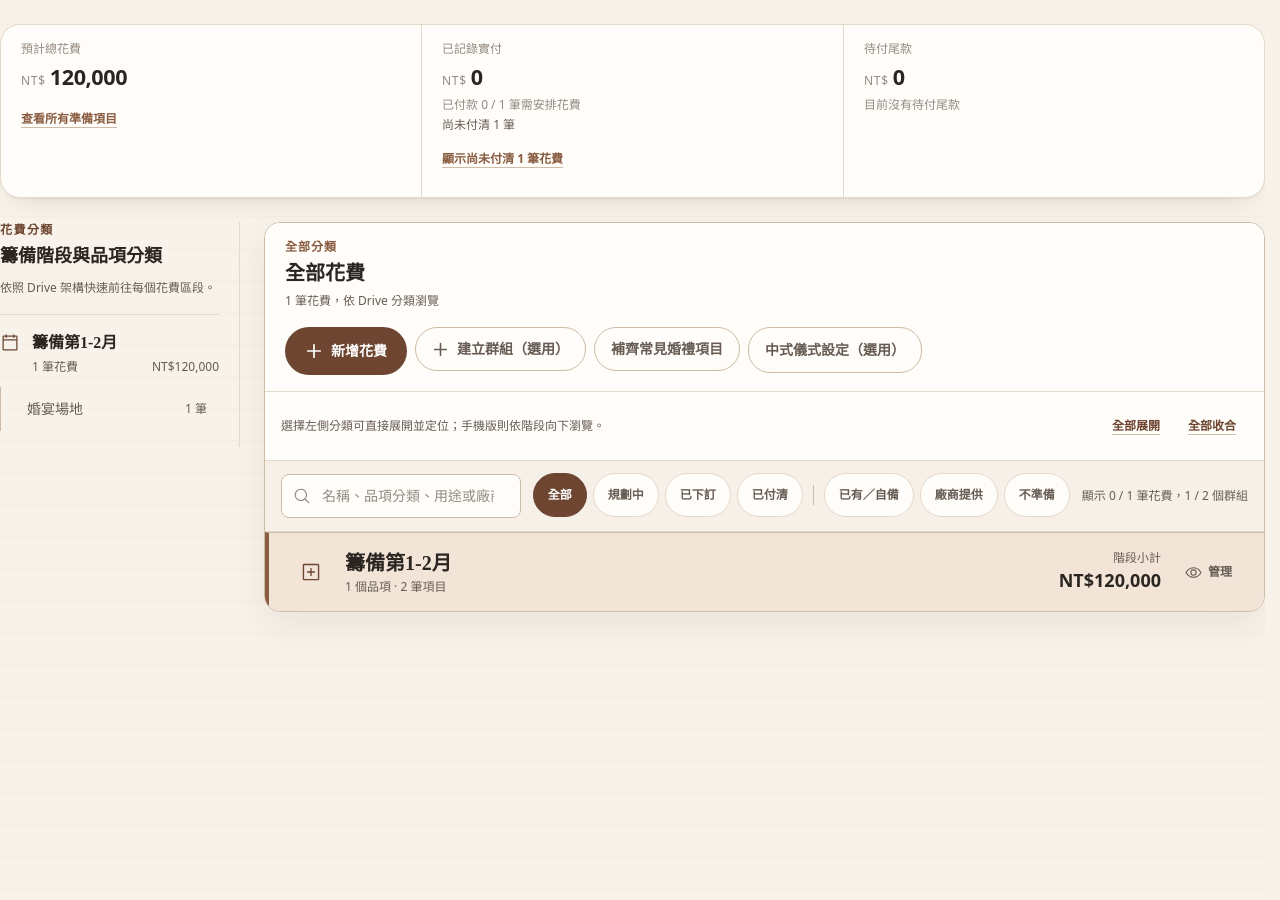
Test: budget taxonomy UI › keeps stages collapsed and fixed while item classifications can add actual entries
Check: the element showing "籌備第1-2月 1 個品項 · 2 筆項目 階段小計 NT$120,000 管理" does not show "母分類", box [265,532,1264,611]
Check: the heading "籌備第1-2月" is shown, box [345,552,452,574]
Click the button with aria-label "管理籌備階段：籌備第1-2月" at (1208,572), box [1173,550,1244,594]
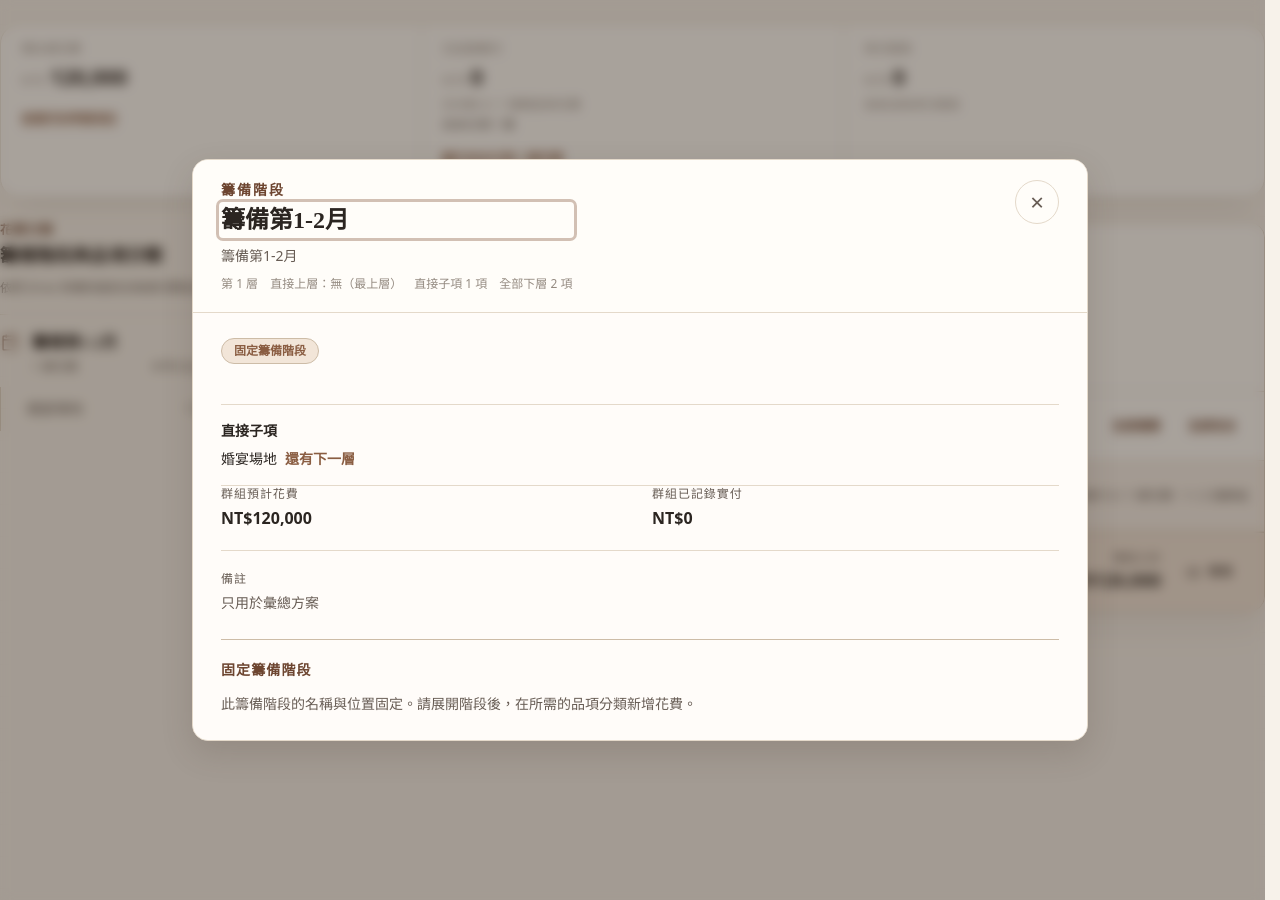
Check: the dialog "籌備第1-2月" shows "固定籌備階段", box [234,342,306,359]
Check: the navigation bar named "籌備階段層級路徑" is shown, box [221,246,298,265]
Check: the element named "籌備第1-2月 籌備階段完整資料" is shown, box [193,313,1087,740]
Click the button named "關閉管理：籌備第1-2月" at (1037,202), box [1015,180,1059,224]
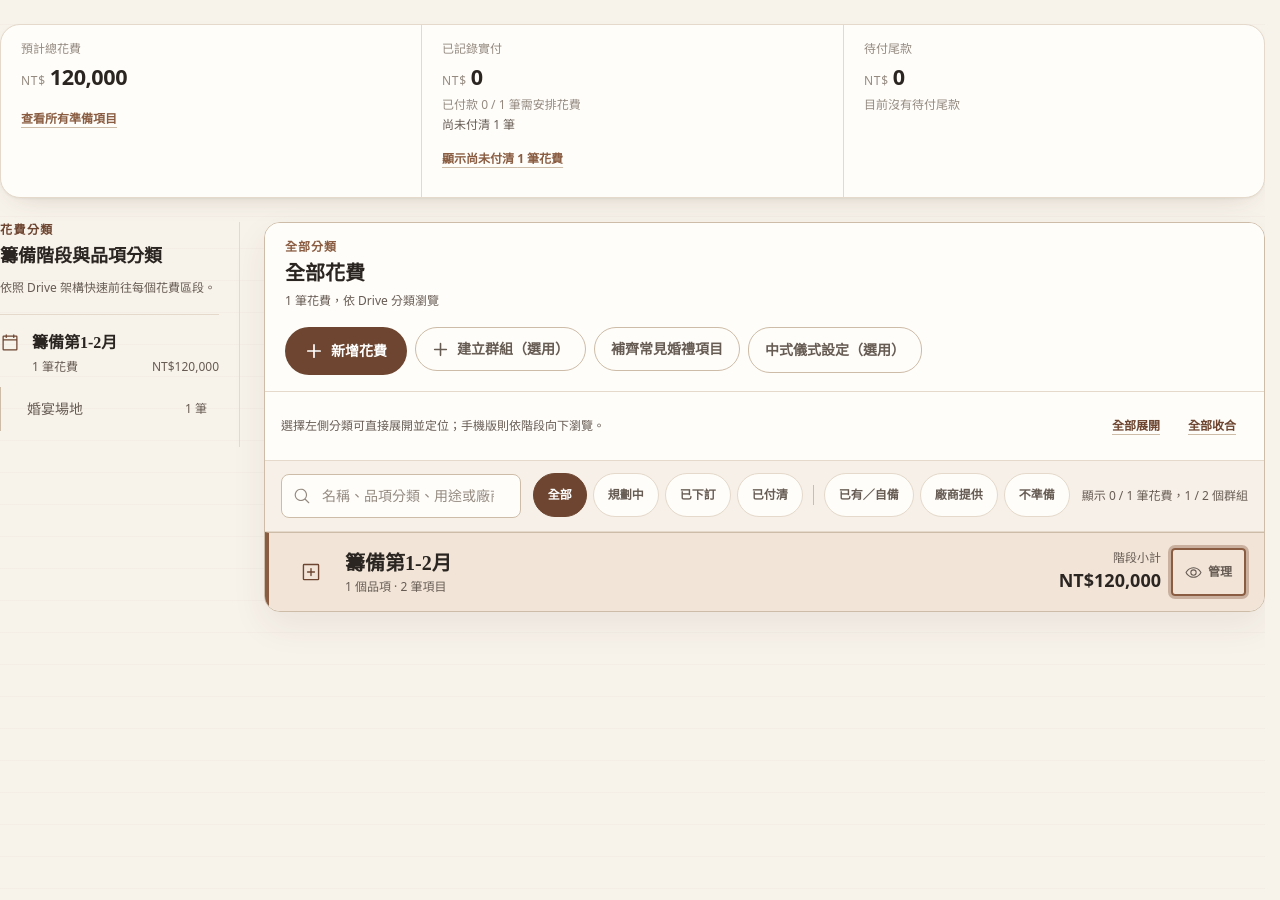
Click the button named "展開籌備階段：籌備第1-2月" at (311,572), box [289,550,333,594]
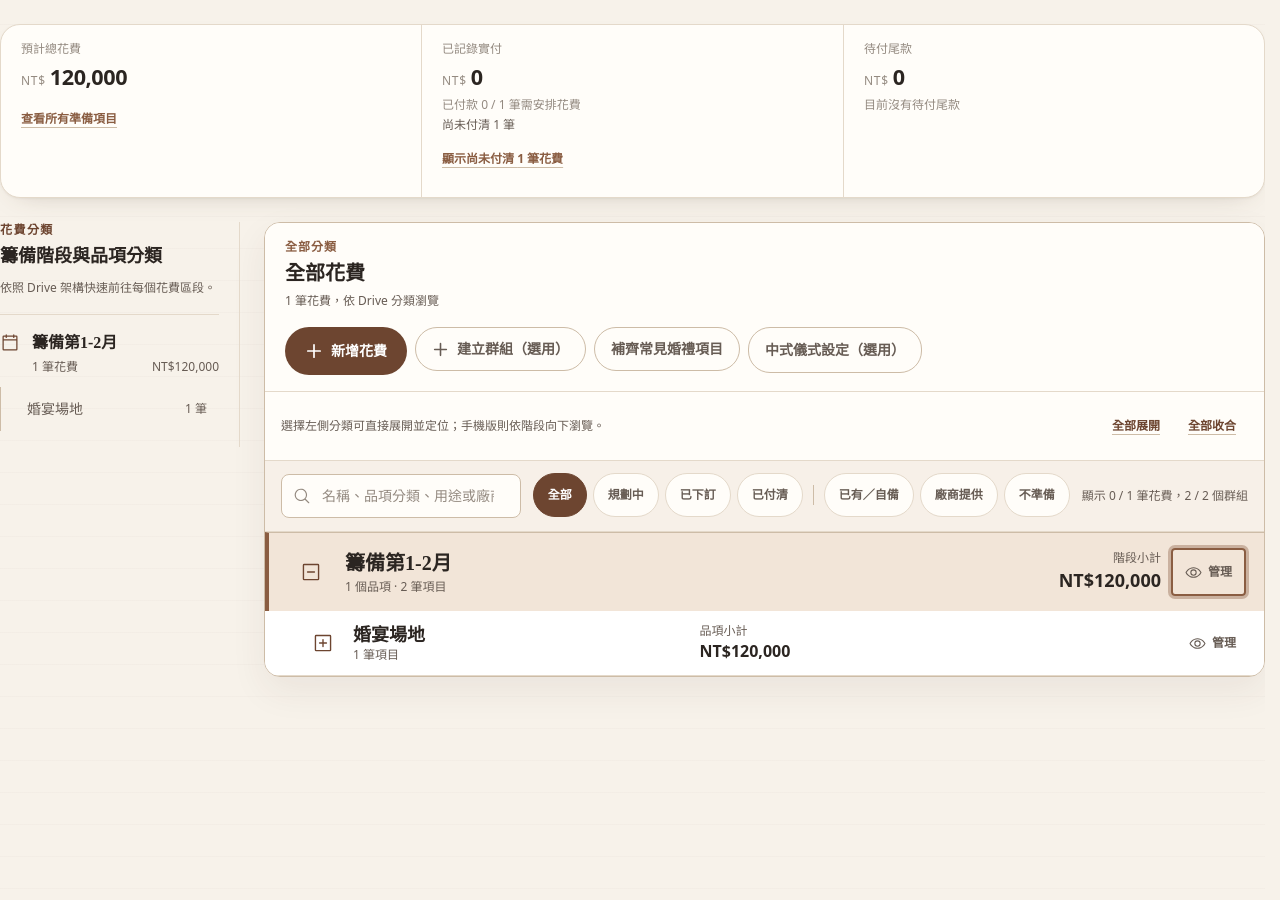
Check: the heading "婚宴場地" is shown, box [353,623,425,647]
Click the button named "展開品項分類：婚宴場地" at (323,643), box [301,621,345,665]
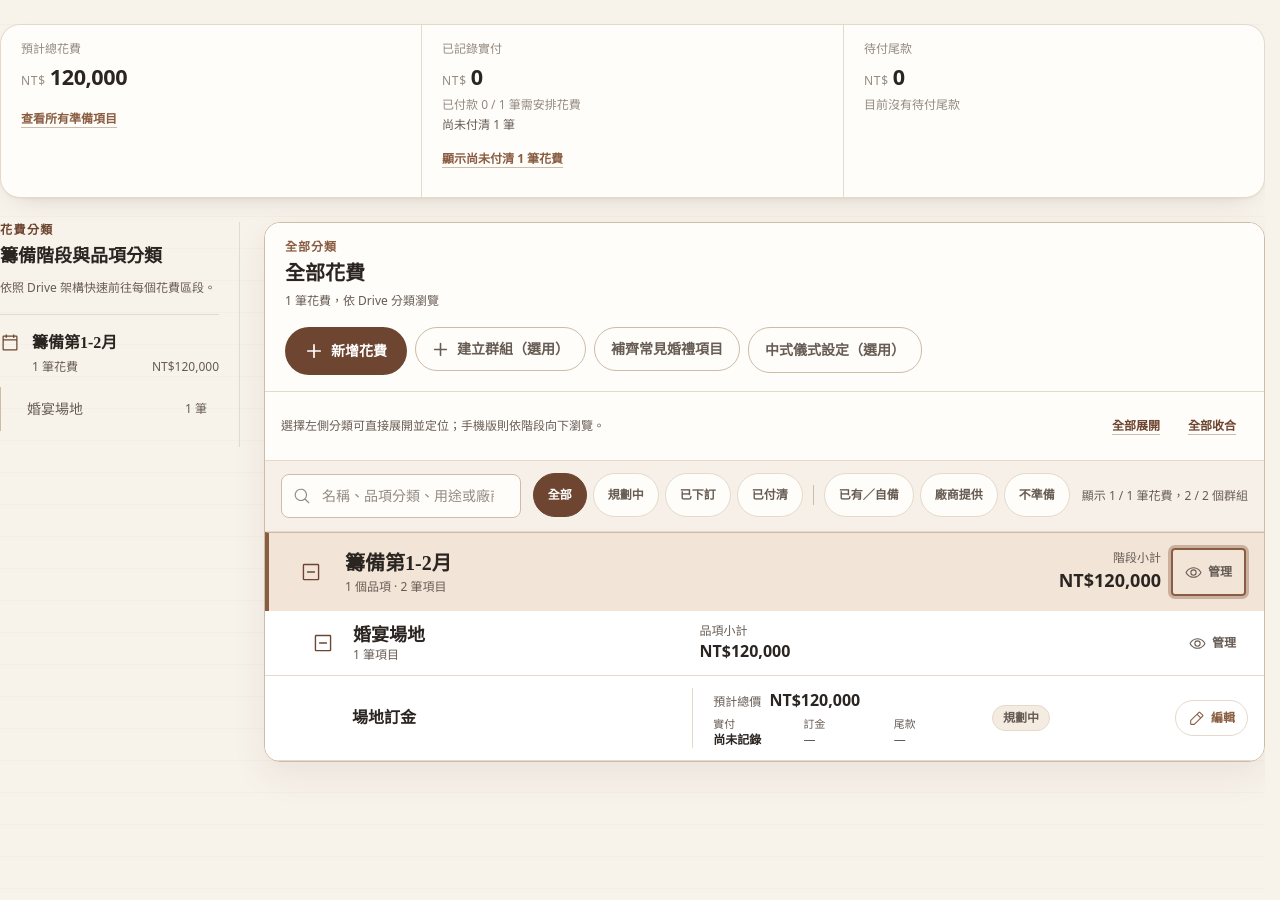
Check: the heading "場地訂金" is shown, box [352,709,416,726]
Click the button with aria-label "管理品項分類：婚宴場地" at (1212,643), box [1177,621,1248,665]
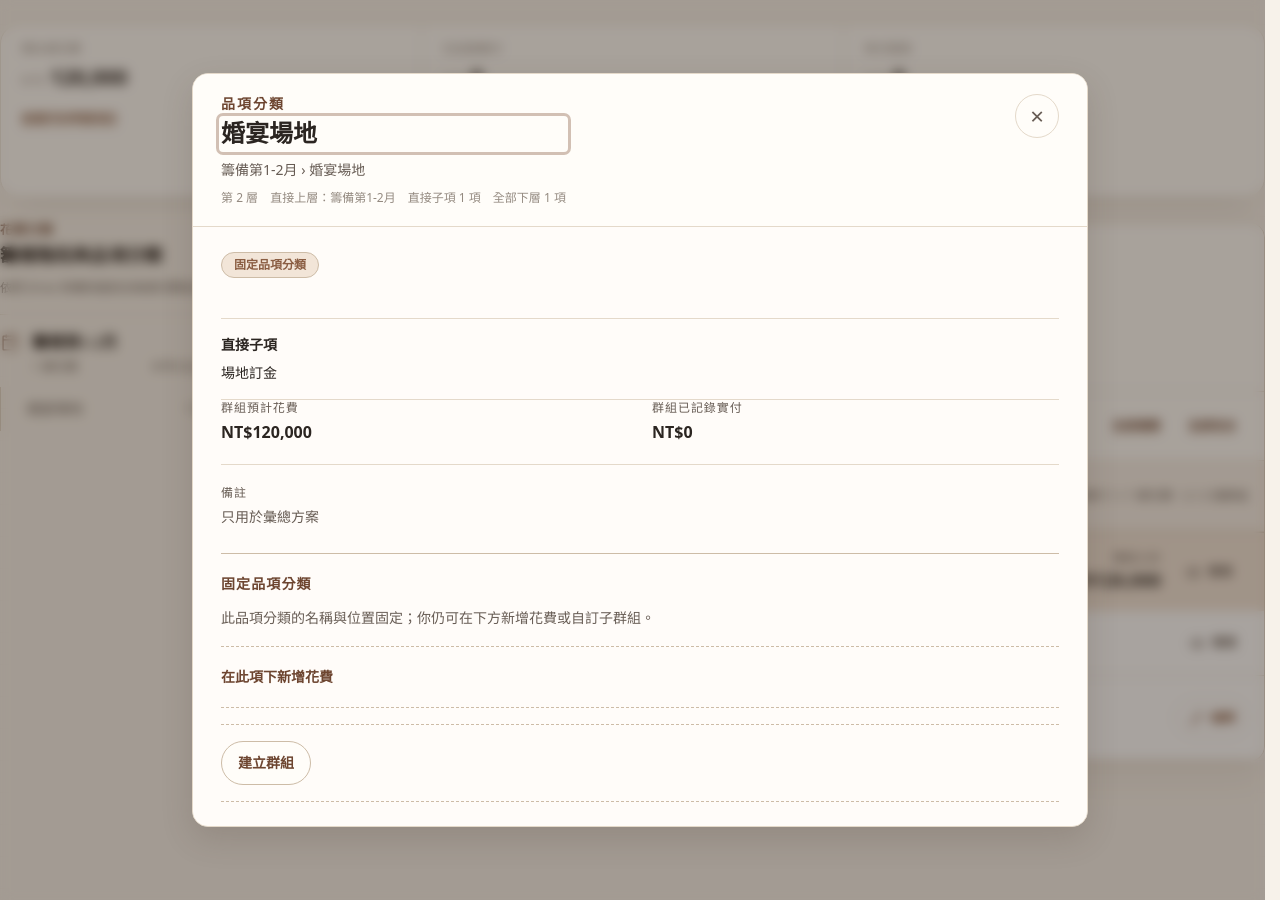
Check: the dialog "婚宴場地" shows "固定品項分類", box [234,256,306,273]
Check: the navigation bar named "品項分類層級路徑" is shown, box [221,160,365,179]
Check: the element named "婚宴場地 品項分類完整資料" is shown, box [193,227,1087,826]
